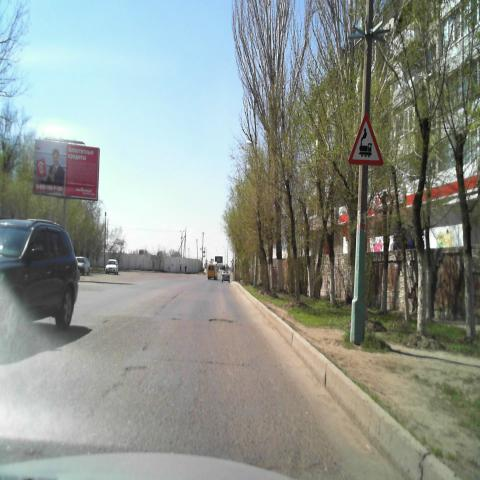1_2: (345, 113, 385, 167)
